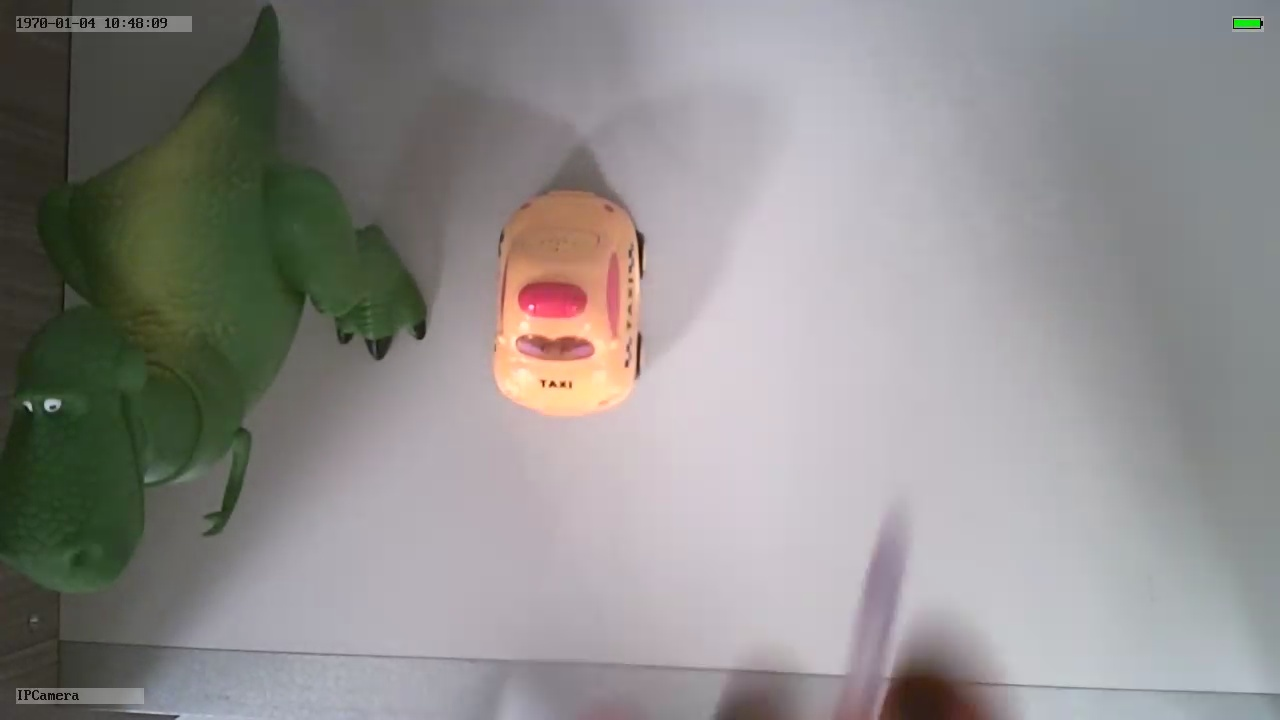car: (487, 178, 651, 420)
rex: (1, 97, 428, 598)
